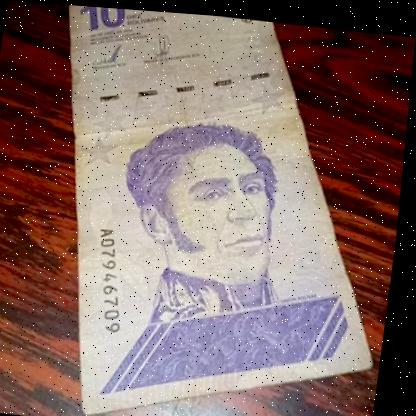ten-front-vef: (13, 3, 416, 416)
